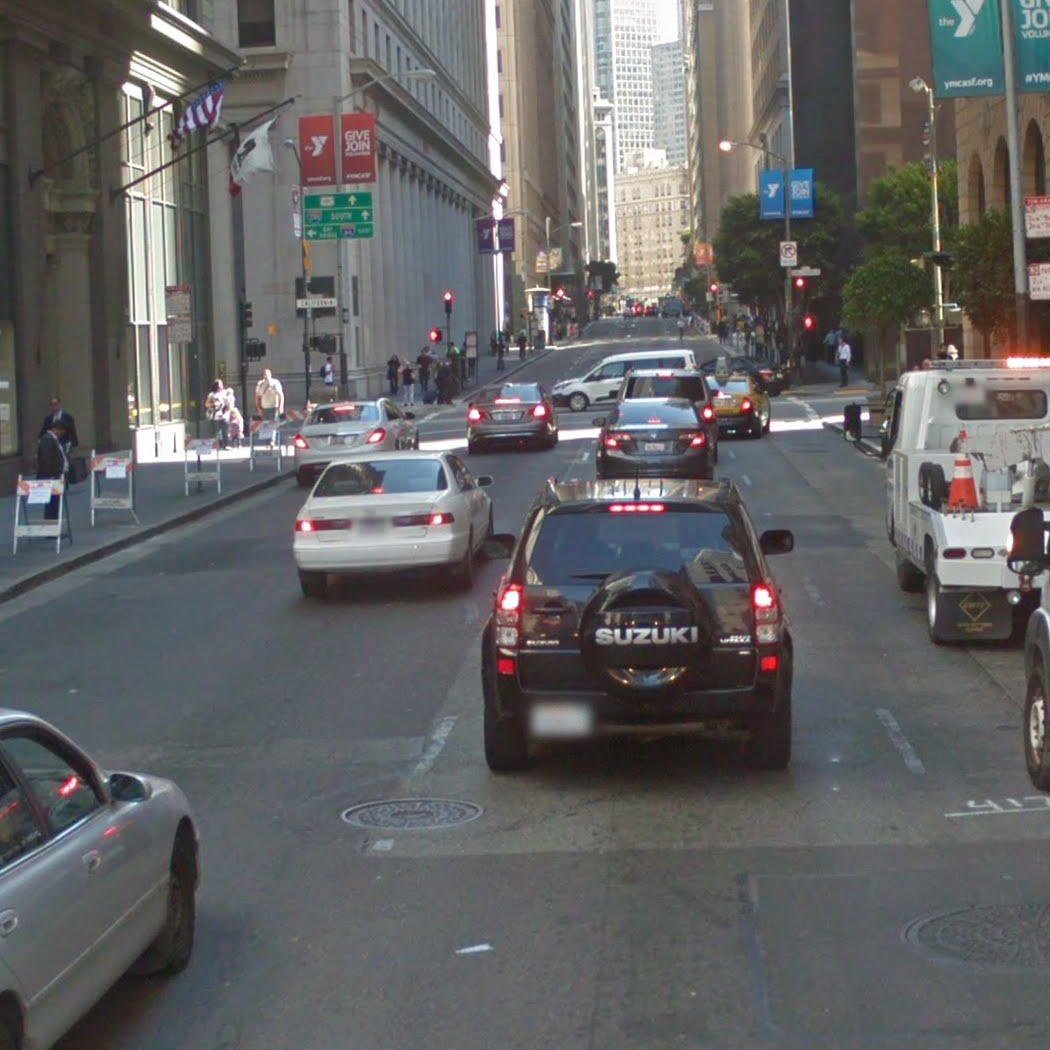No Parking: (1028, 263, 1050, 300)
